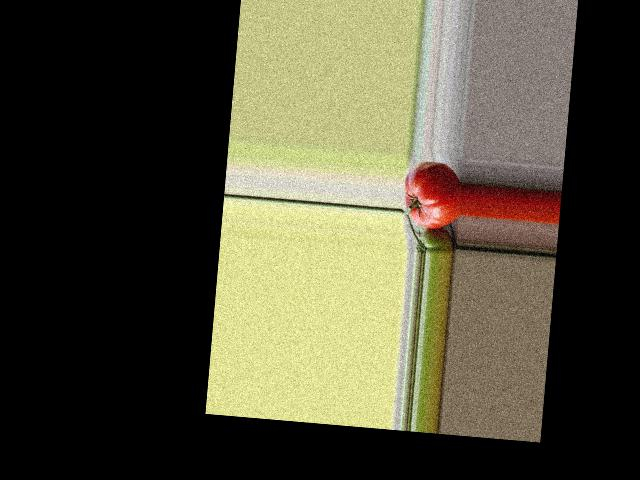tomato: (401, 159, 464, 230)
